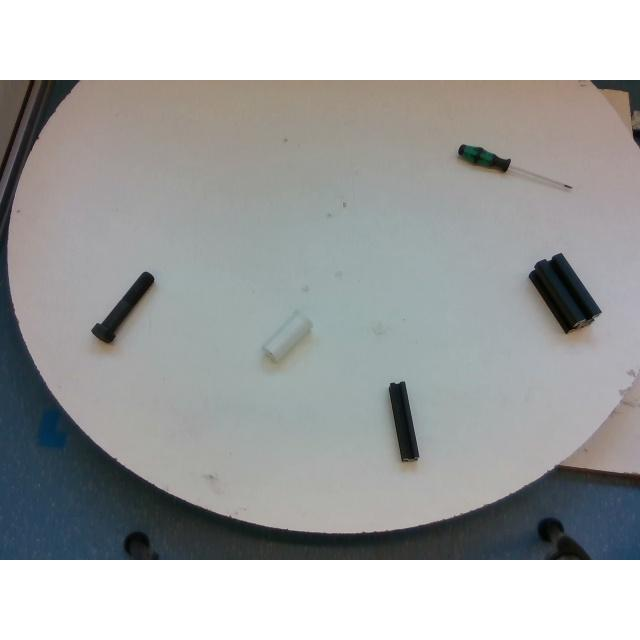F20_20_B: (388, 381, 422, 463)
M20_100: (91, 272, 153, 344)
S40_40_B: (528, 252, 600, 332)
Screwdriver: (458, 144, 572, 188)
Spacer: (262, 313, 310, 359)
